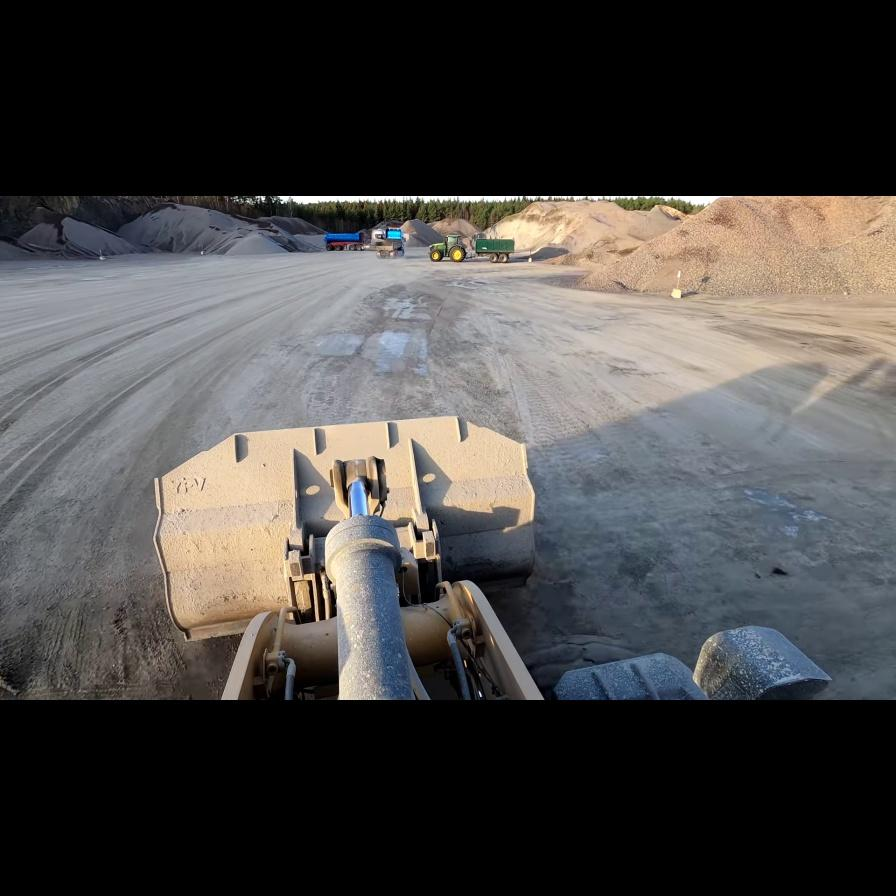anchor: (331, 456, 387, 520)
pile of gravel: (565, 196, 891, 297), (492, 200, 680, 262), (118, 203, 302, 257), (3, 215, 144, 259), (402, 213, 484, 246)
